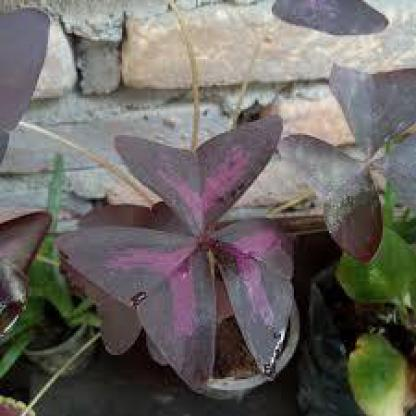Kupu-Kupu: (86, 122, 301, 364), (278, 60, 415, 264)
